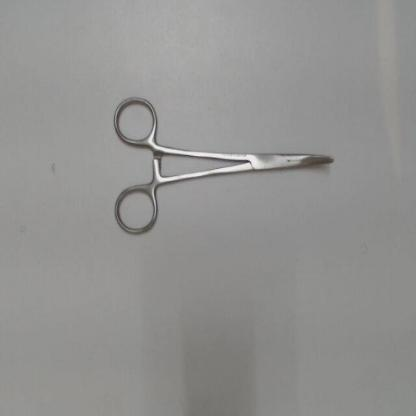Crile Artery Forceps: (110, 88, 340, 236)
